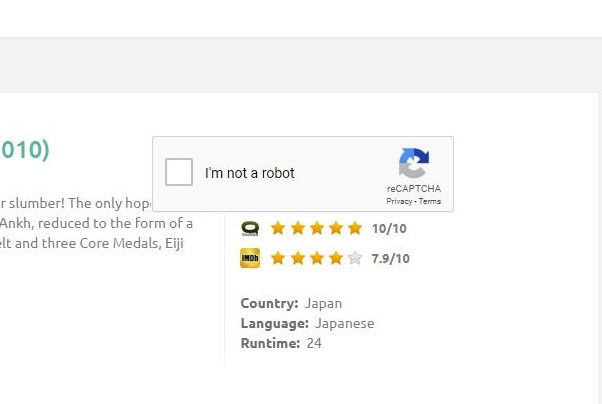captcha: (165, 157, 299, 186)
